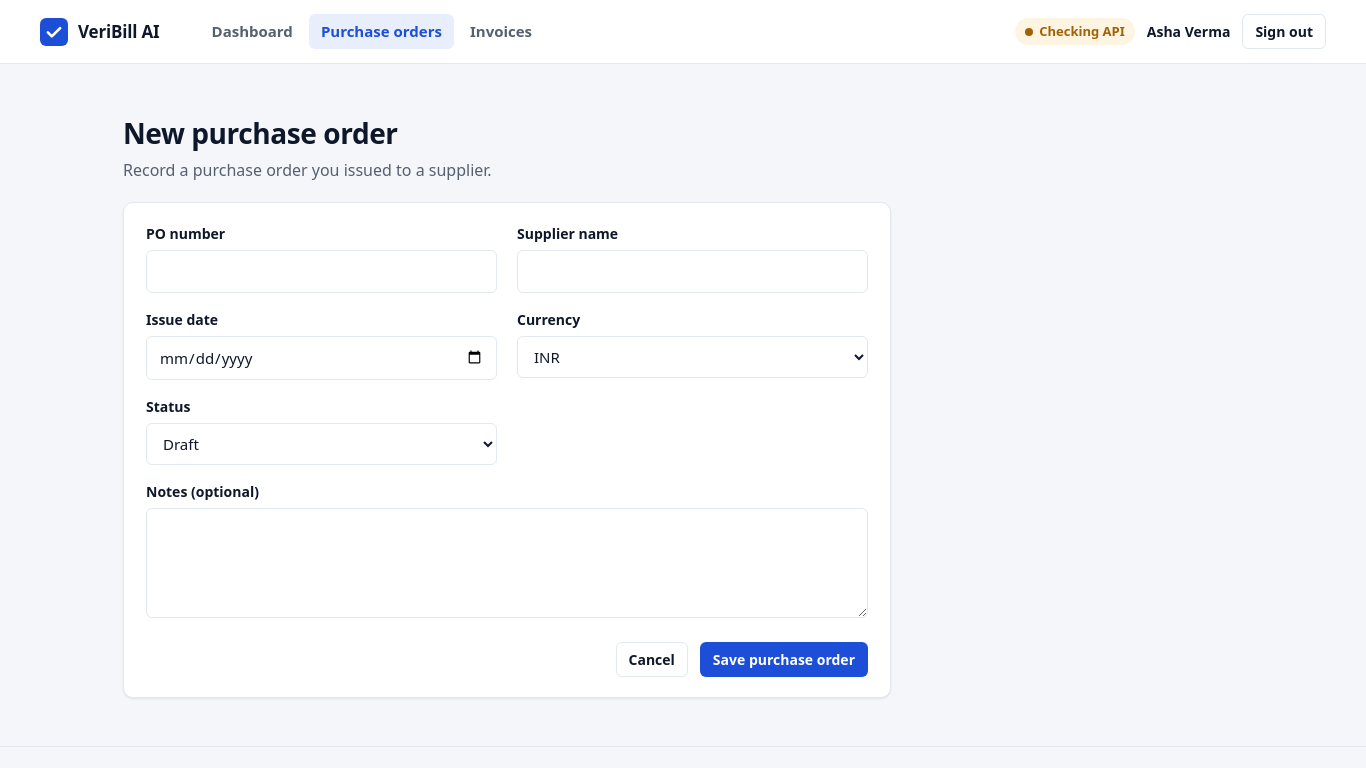
Test case: NewPurchaseOrderPage › checks required fields before sending anything
Click the button "Save purchase order".
click(784, 660)  # box x1=700 y1=642 x2=868 y2=677
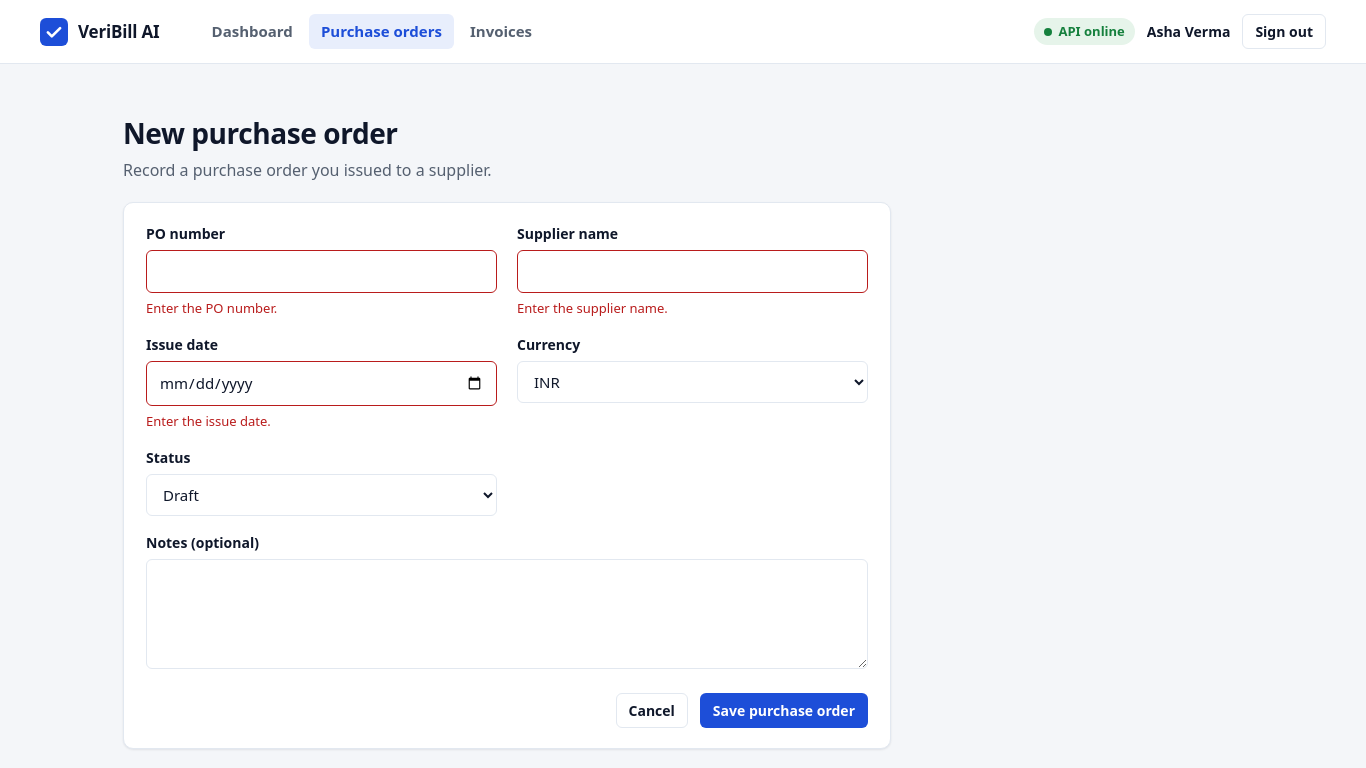
Check: the text "Enter the PO number." is shown, box x1=146 y1=298 x2=277 y2=316
Check: the text "Enter the supplier name." is shown, box x1=517 y1=298 x2=668 y2=316
Check: the text "Enter the issue date." is shown, box x1=146 y1=412 x2=271 y2=430
